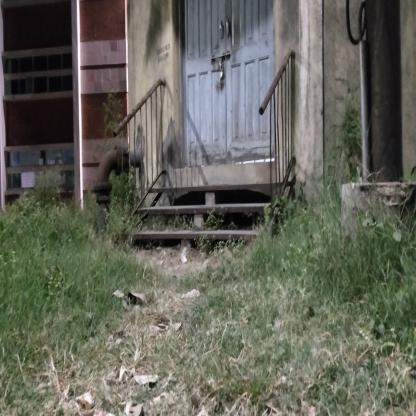stairs: (150, 182, 266, 252)
